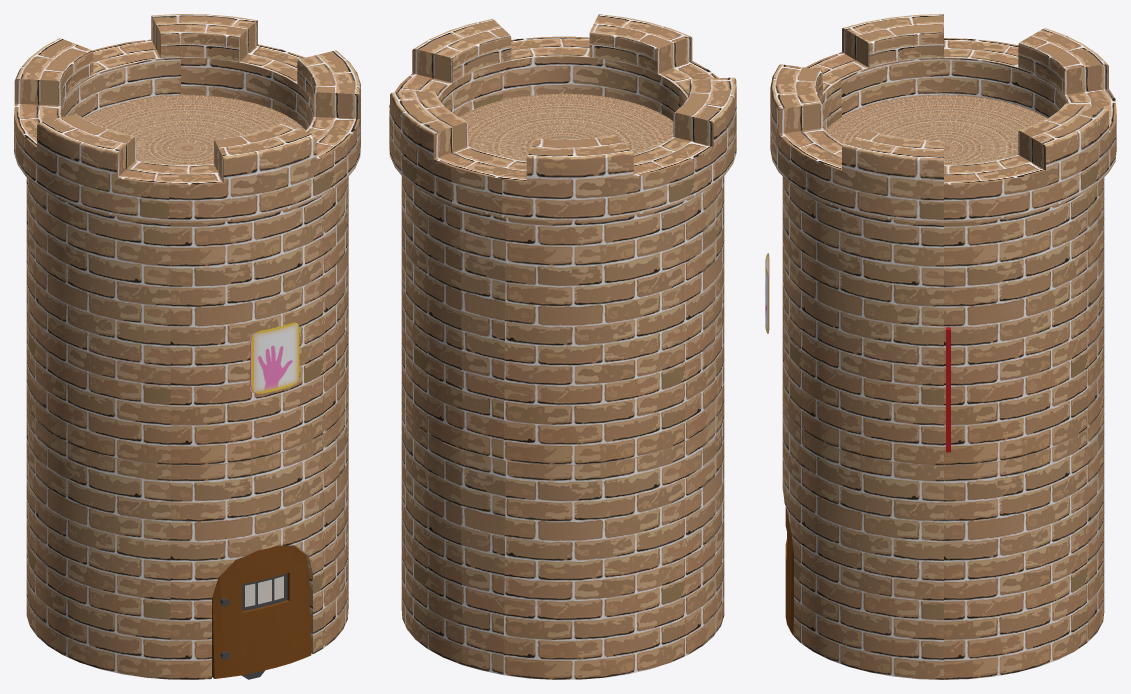
The model's file is asset_base.fbx.
3 views of the same model, side by side, from view 1: azimuth 30°, elevation 25°; view 2: azimuth 150°, elevation 25°; view 3: azimuth 270°, elevation 25° (orthographic).
Visible parts, largest first — view 1: castle, cong_thanh, glow; view 2: castle; view 3: castle, cong_thanh, co.
Boxes of the visible parts, box(x1,y1,x2,y2) form: castle: box(14, 14, 360, 679); cong_thanh: box(212, 545, 311, 678); glow: box(251, 322, 299, 393); castle: box(389, 14, 736, 679); castle: box(770, 14, 1116, 679); cong_thanh: box(785, 507, 793, 635); co: box(946, 327, 950, 452).
Size of the model in its own units: 969 by 1690 by 981.
